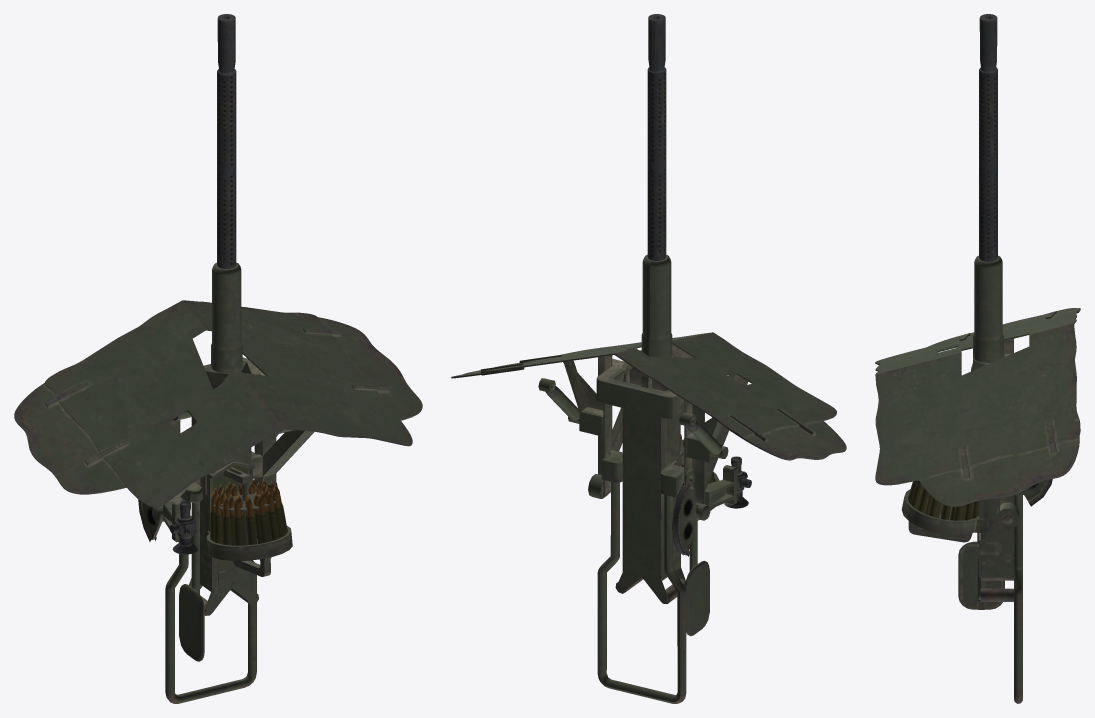
Rendered from Gun_01.glb.
3 renders of one model, left to right at view 1: azimuth 30°, elevation 25°; view 2: azimuth 150°, elevation 25°; view 3: azimuth 270°, elevation 25°, orthographic. The views are drawn at different scales.
Visible parts, largest first — view 1: set_0_group_0; view 2: set_0_group_0; view 3: set_0_group_0.
Boxes of the visible parts, x1,y1,x2,y2 form: set_0_group_0: (14, 14, 422, 703); set_0_group_0: (451, 14, 846, 703); set_0_group_0: (875, 14, 1080, 703).
Bounding box in the file's own units: 1.33 × 2.4 × 0.6668.
Materials: 1 (1 with a texture image).
